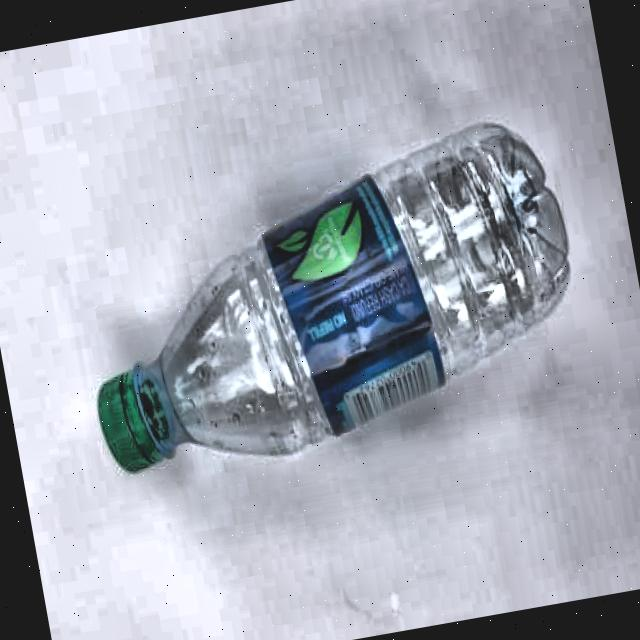plastic: (56, 112, 598, 488)
